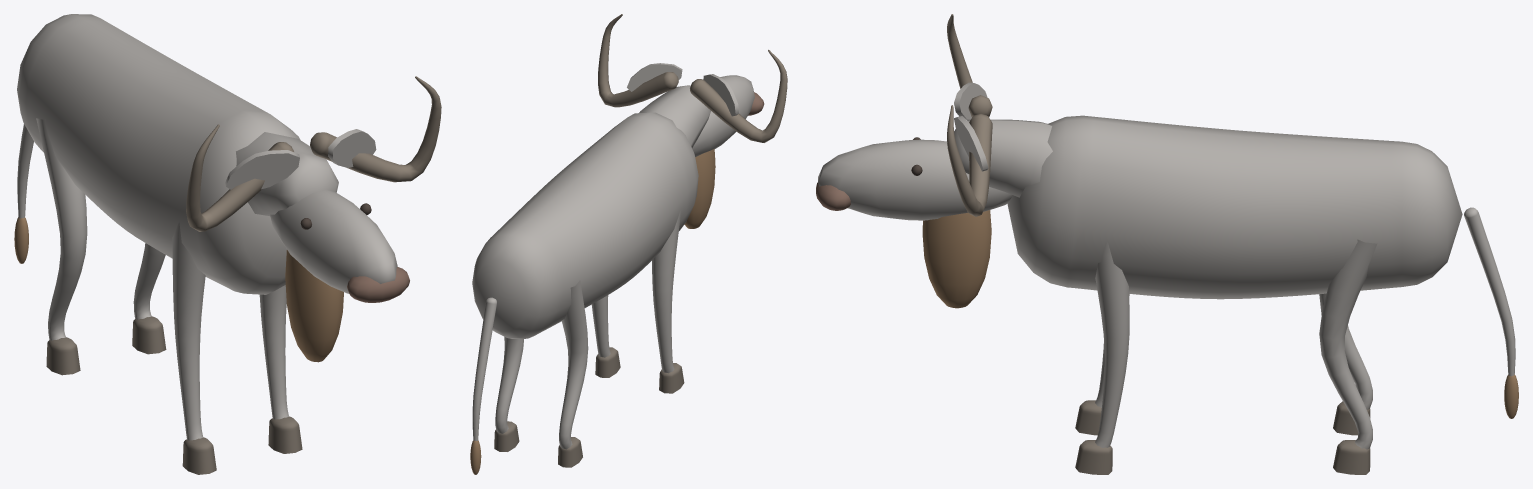
Rendered from savanna-wildlife-blue-wildebeest-035c392d__6548.glb.
3 renders of one model, left to right at view 1: azimuth 30°, elevation 25°; view 2: azimuth 150°, elevation 25°; view 3: azimuth 270°, elevation 25°, orthographic. The views are drawn at different scales.
Visible parts, largest first — view 1: blue-wildebeest; view 2: blue-wildebeest; view 3: blue-wildebeest.
Boxes of the visible parts, x1,y1,x2,y2 form: blue-wildebeest: (14, 14, 441, 474); blue-wildebeest: (470, 14, 787, 474); blue-wildebeest: (816, 14, 1518, 474).
Bounding box in the file's own units: 1.16 × 1.83 × 2.98.
